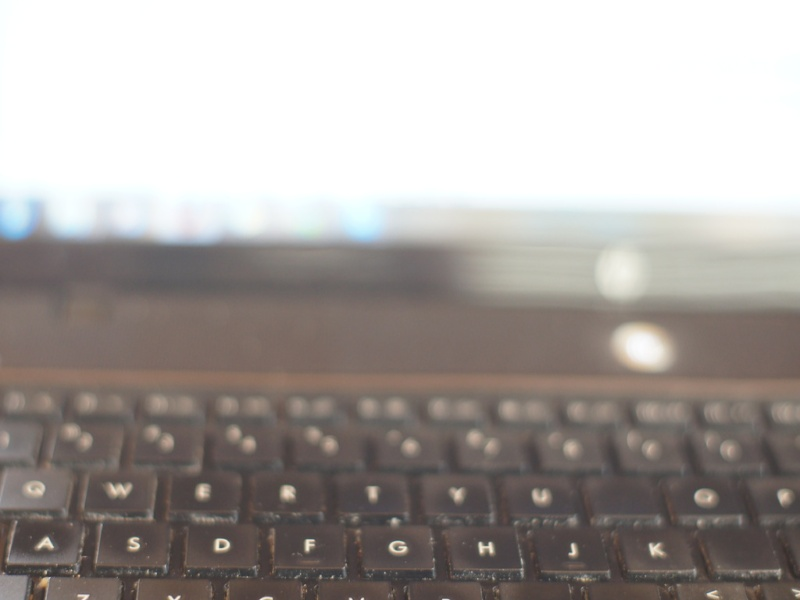laptop: (1, 3, 799, 598)
